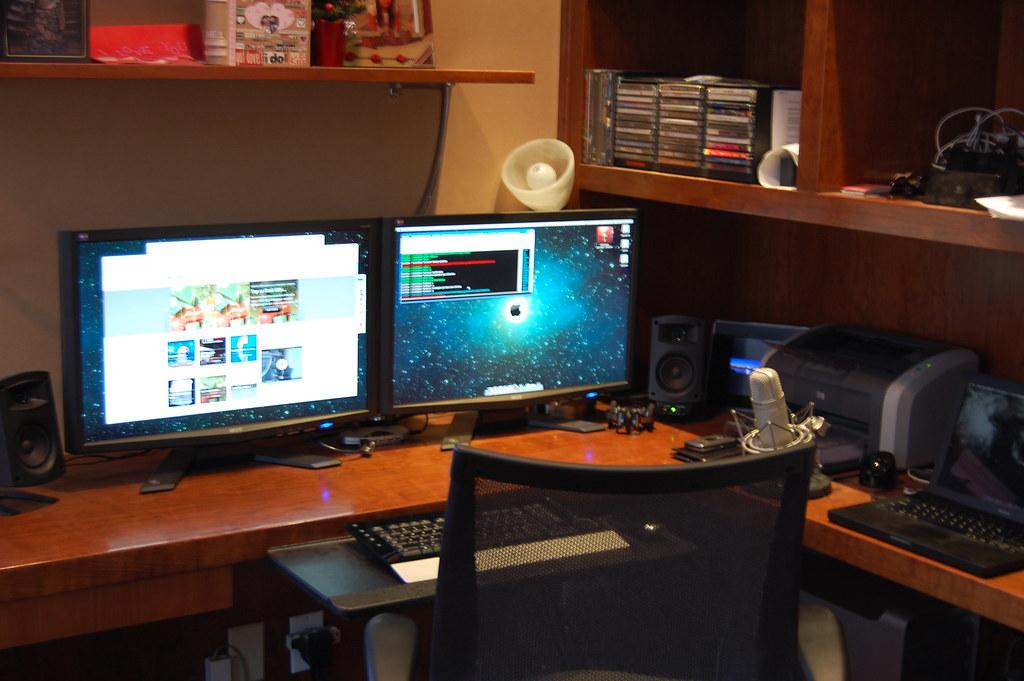computer: (58, 217, 381, 492), (379, 207, 641, 450)
